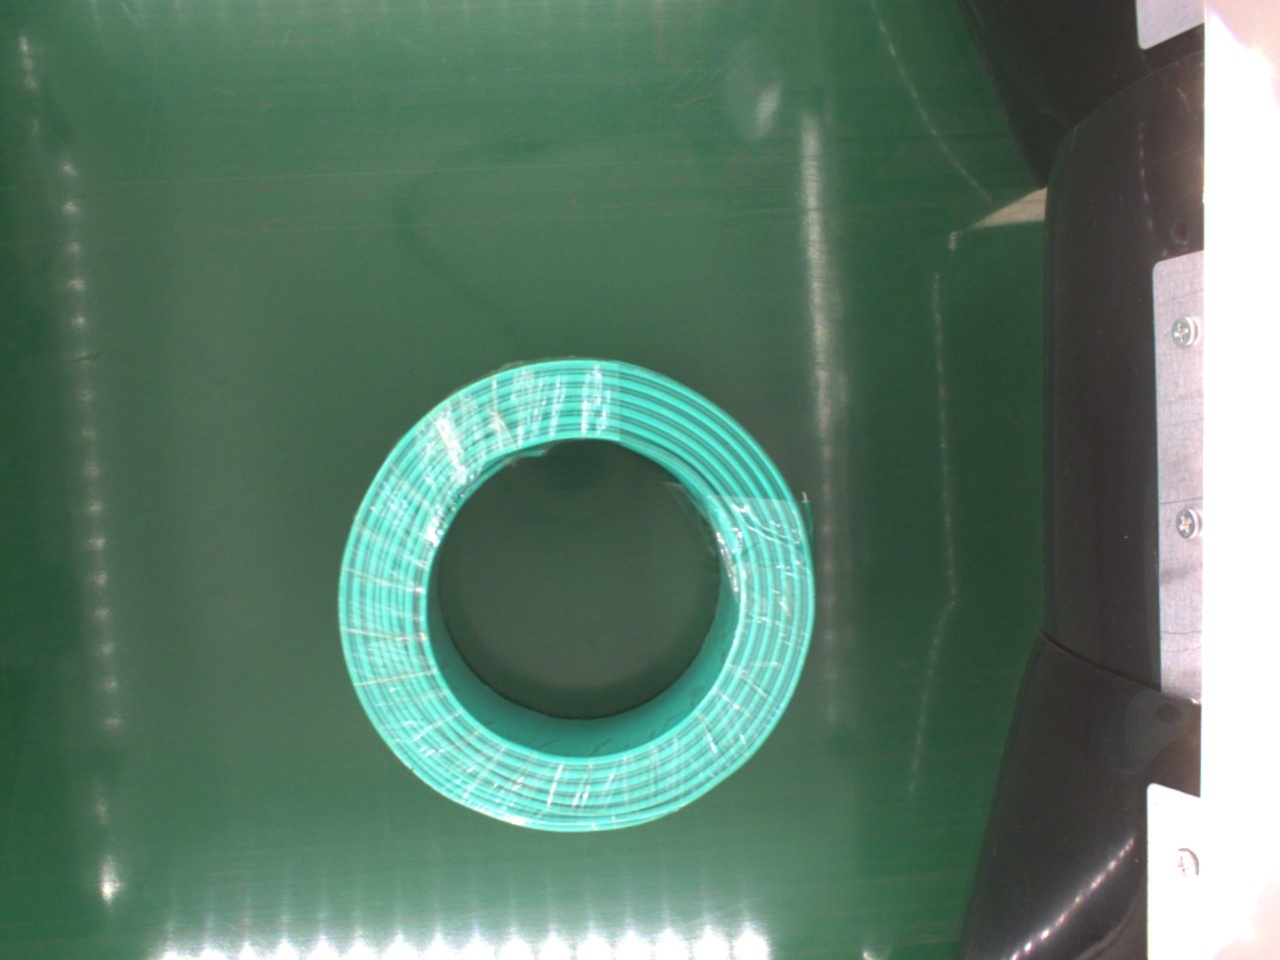green: (334, 357, 819, 838)
